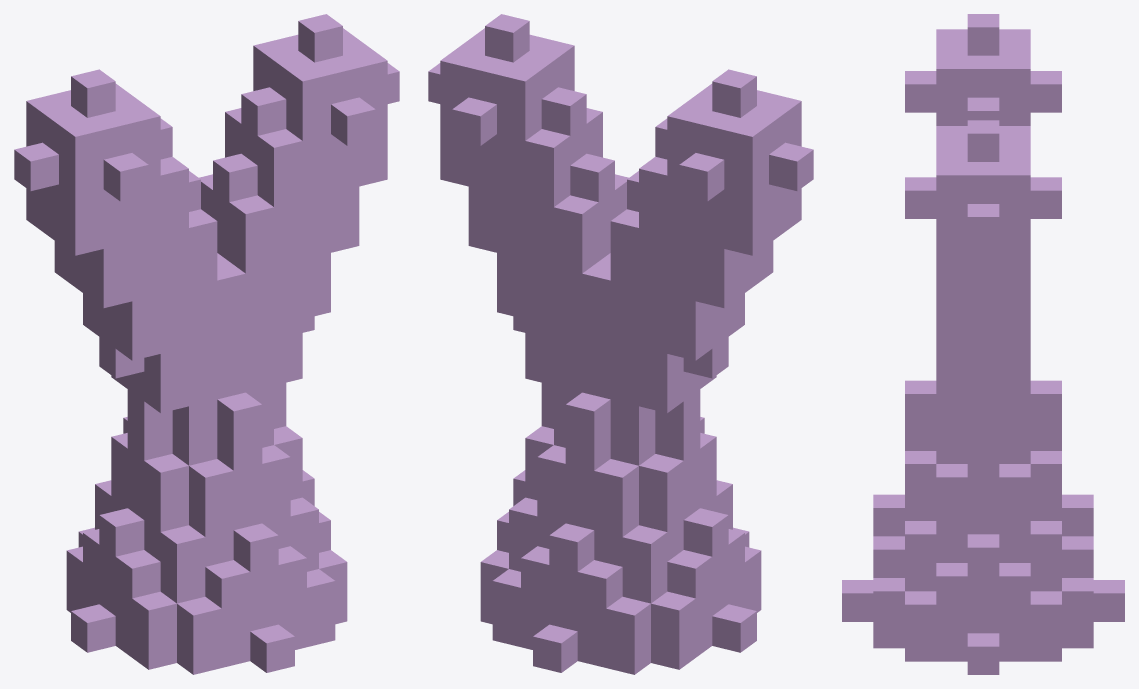
The model's file is alien-biosphere-forked-crystal-99f6eb1b.glb.
3 renders of one model, left to right at view 1: azimuth 30°, elevation 25°; view 2: azimuth 150°, elevation 25°; view 3: azimuth 270°, elevation 25°, orthographic. The views are drawn at different scales.
Parts seen in each view (by area): view 1: forked-crystal; view 2: forked-crystal; view 3: forked-crystal.
Part boxes in pixels (x1,y1,x2,y2): forked-crystal: (14,14,399,674); forked-crystal: (428,14,813,674); forked-crystal: (842,14,1124,674).
Bounding box in the file's own units: 2.6 × 3.8 × 1.8.
